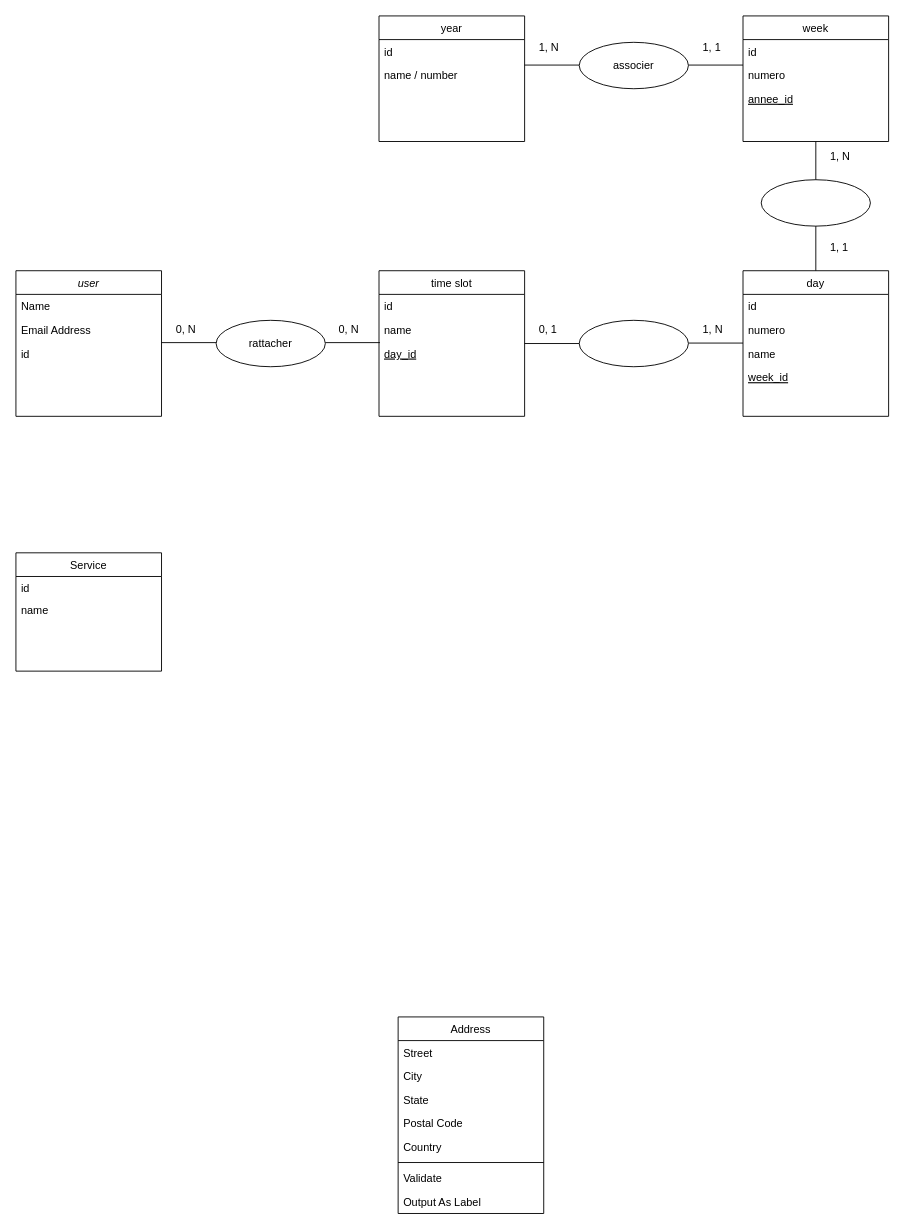
The diagram is 905 pixels wide and 1232 high, and some of its shapes have lost their labels. The centre of each missing label's shape, as x and y in pixels:
"attacher" goes at [815,202].
"lier" goes at [633,343].
